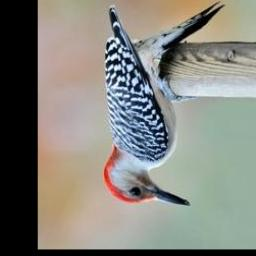Woodpecker: (91, 0, 234, 216)
